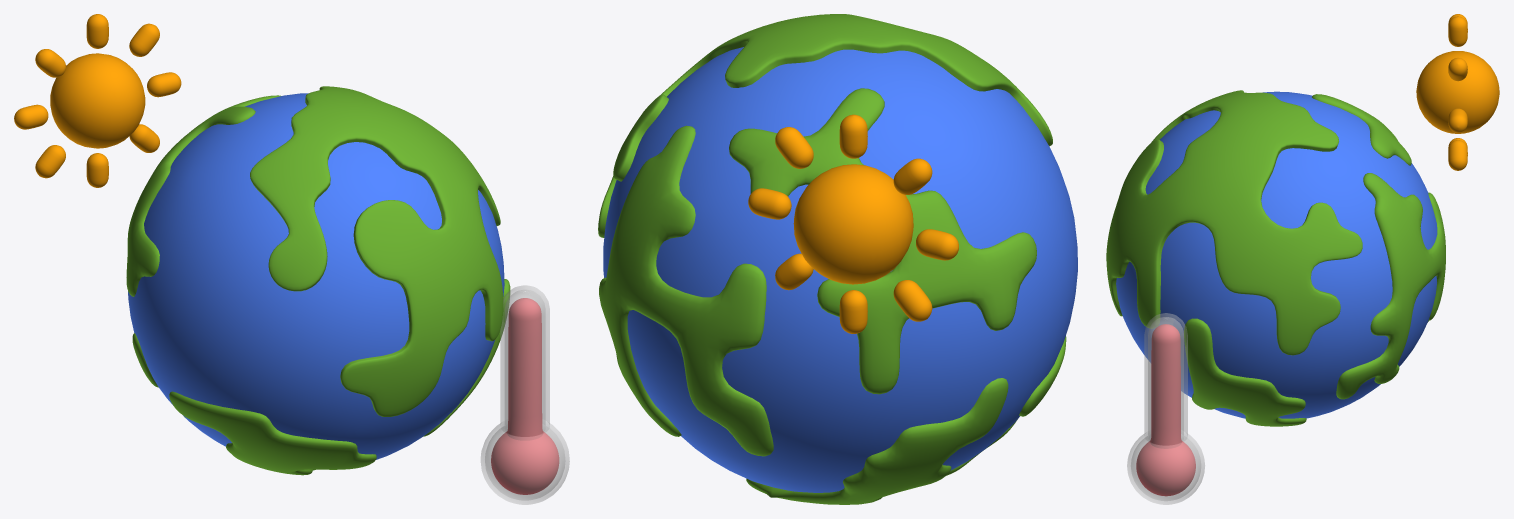
File: Global Warming.glb
The picture shows the model from 3 angles, left to right: view 1: azimuth 30°, elevation 25°; view 2: azimuth 150°, elevation 25°; view 3: azimuth 270°, elevation 25°; orthographic projection. The views are drawn at different scales.
Parts seen in each view (by area): view 1: Cube.003, Cube.004, Sphere, Sphere.001, Cube.001, Circle.043, Circle.039, Circle.042, Circle.038, Circle.040, Circle.044, Circle.045 (+1 smaller); view 2: Cube.003, Cube.004, Cube.001, Circle.043, Circle.039, Circle.038, Circle.042, Circle.040, Circle.044, Circle.045, Circle.041; view 3: Cube.004, Cube.003, Sphere, Sphere.001, Cube.001, Circle.041, Circle.038.
Boxes of the visible parts, x1=… form: Cube.003: x1=128, y1=93, x2=504, y2=459; Cube.004: x1=126, y1=86, x2=510, y2=475; Sphere: x1=481, y1=285, x2=569, y2=504; Sphere.001: x1=491, y1=298, x2=559, y2=494; Cube.001: x1=50, y1=53, x2=145, y2=148; Circle.043: x1=35, y1=145, x2=65, y2=178; Circle.039: x1=129, y1=23, x2=159, y2=56; Circle.042: x1=86, y1=153, x2=108, y2=187; Circle.038: x1=86, y1=14, x2=108, y2=48; Circle.040: x1=147, y1=72, x2=181, y2=97; Circle.044: x1=14, y1=104, x2=48, y2=129; Circle.045: x1=35, y1=49, x2=65, y2=77; Cube.003: x1=603, y1=47, x2=1077, y2=492; Cube.004: x1=598, y1=14, x2=1066, y2=504; Cube.001: x1=793, y1=164, x2=913, y2=284; Circle.043: x1=893, y1=280, x2=932, y2=321; Circle.039: x1=775, y1=127, x2=813, y2=168; Circle.038: x1=839, y1=114, x2=867, y2=158; Circle.042: x1=839, y1=290, x2=867, y2=333; Circle.040: x1=748, y1=188, x2=791, y2=219; Circle.044: x1=916, y1=229, x2=958, y2=260; Circle.045: x1=893, y1=158, x2=932, y2=194; Circle.041: x1=775, y1=253, x2=813, y2=290; Cube.004: x1=1106, y1=90, x2=1445, y2=426; Cube.003: x1=1116, y1=91, x2=1437, y2=418; Sphere: x1=1127, y1=313, x2=1204, y2=504; Sphere.001: x1=1136, y1=324, x2=1195, y2=496; Cube.001: x1=1416, y1=51, x2=1499, y2=133; Circle.041: x1=1448, y1=140, x2=1467, y2=170; Circle.038: x1=1448, y1=16, x2=1467, y2=46.
Size of the model in its own units: 7.64 by 8.17 by 7.81.
